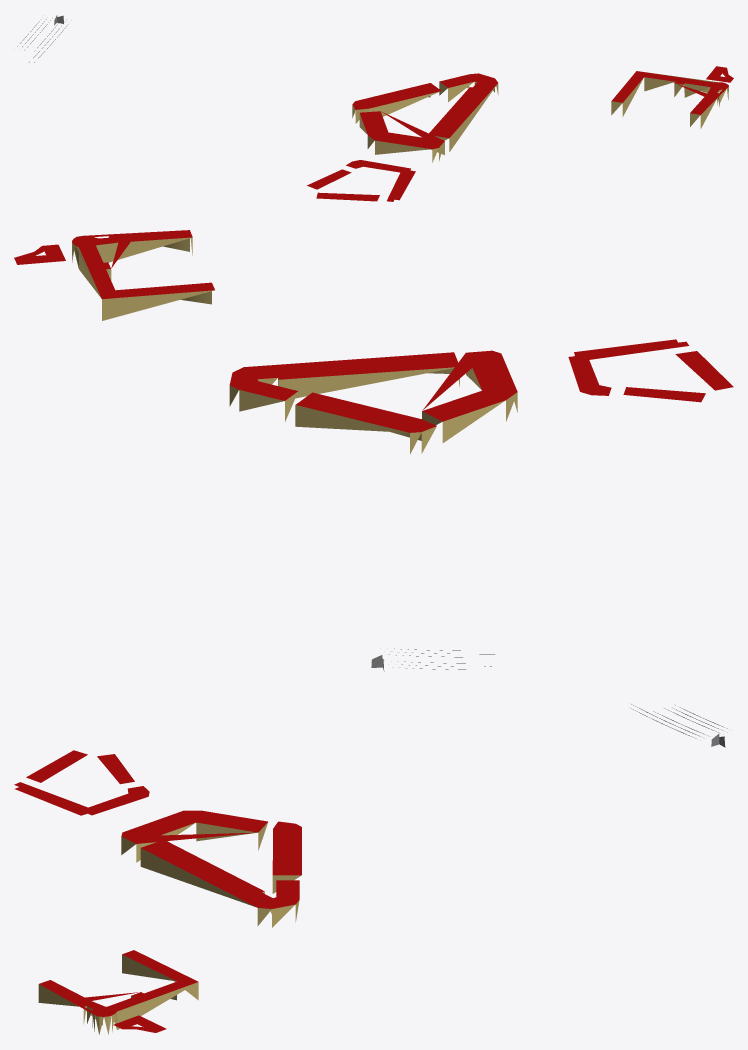
The picture shows the model from 3 angles, top to bottom: view 1: azimuth 30°, elevation 25°; view 2: azimuth 150°, elevation 25°; view 3: azimuth 270°, elevation 25°; orthographic projection. The views are drawn at different scales.
Size of the model in its own units: 474 by 14.5 by 432.
